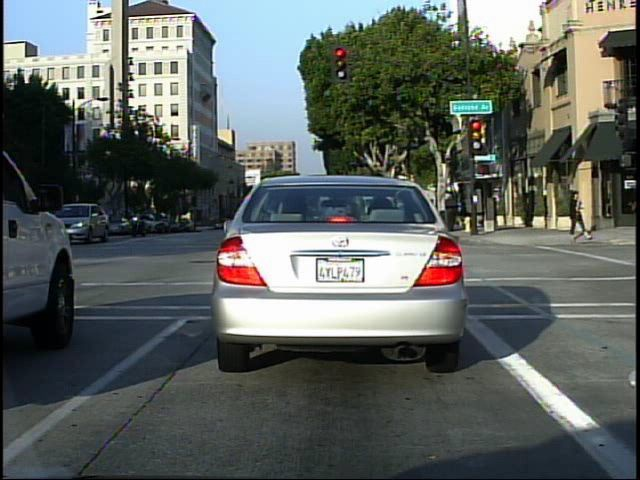person: (564, 186, 595, 249), (128, 201, 151, 238)
